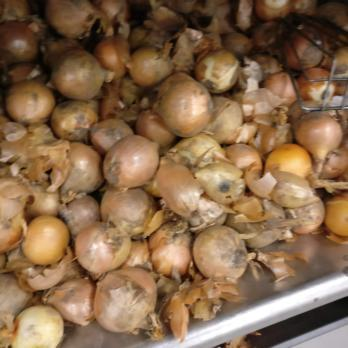Onion: (0, 0, 348, 238), (0, 238, 248, 343)
